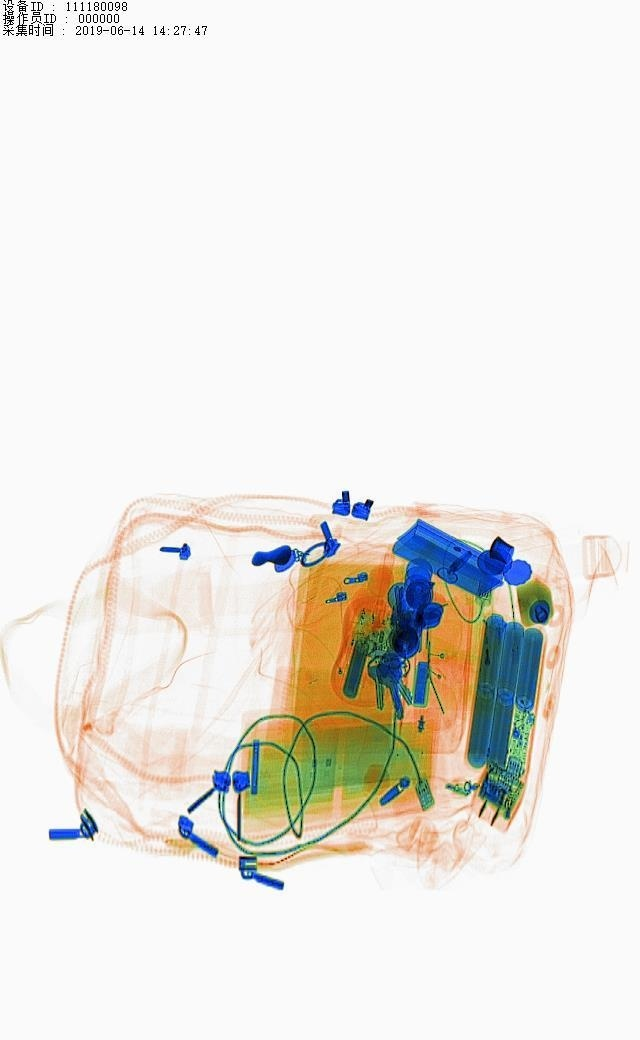NonmetallicFire: (472, 607, 517, 694)
